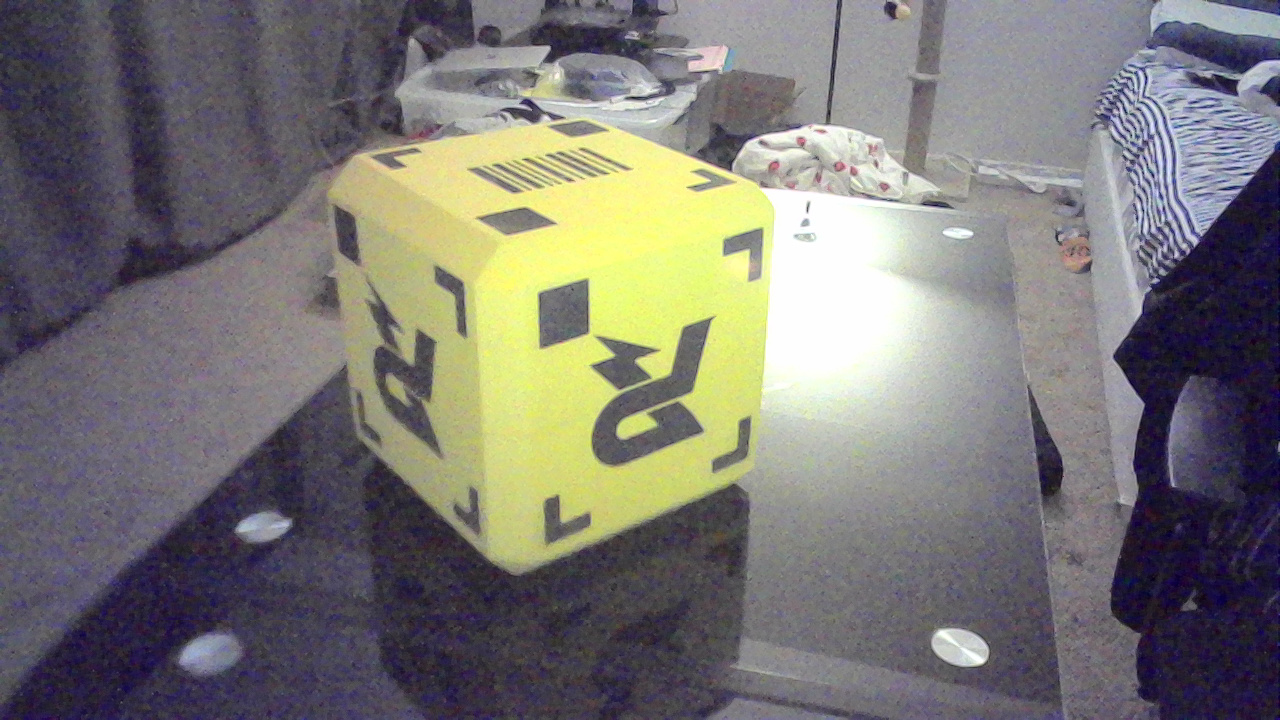Barcode: (485, 150, 630, 200)
R: (578, 330, 732, 478), (369, 294, 458, 454)
